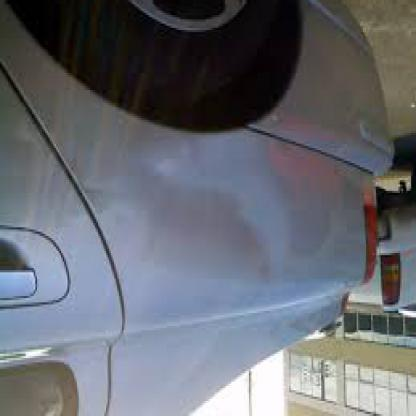dent: (153, 146, 295, 276)
